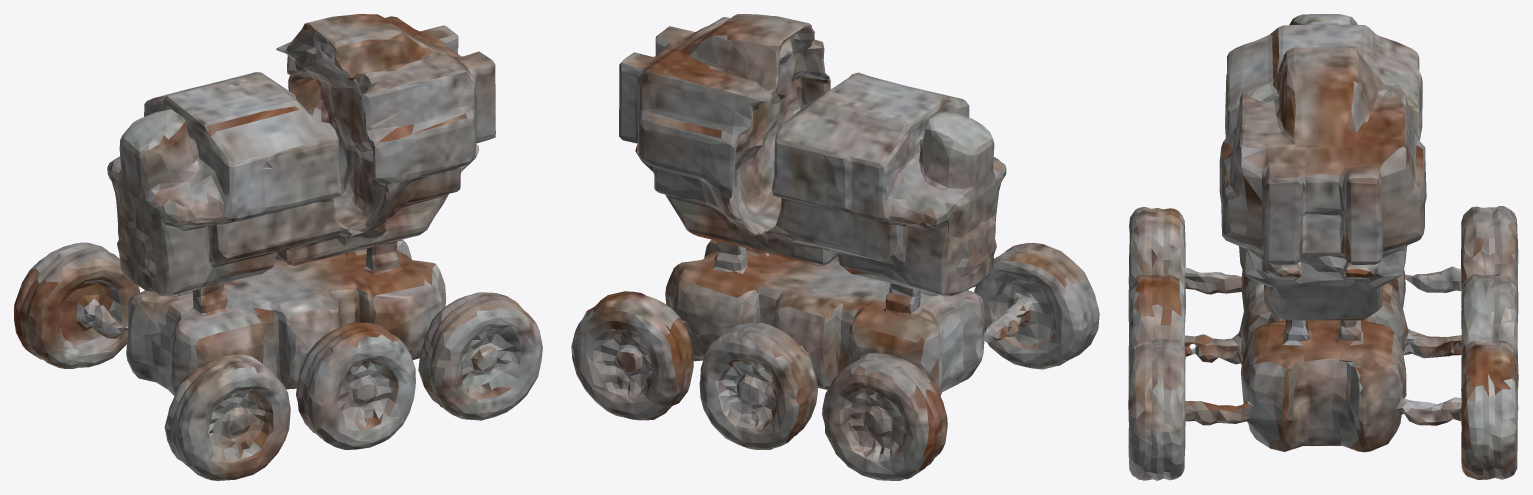
File: debris_wheeled_v2.glb
3 views of the same model, side by side, from view 1: azimuth 30°, elevation 25°; view 2: azimuth 150°, elevation 25°; view 3: azimuth 270°, elevation 25° (orthographic). The views are drawn at different scales.
Visible parts, largest first — view 1: Mesh_0; view 2: Mesh_0; view 3: Mesh_0.
Part boxes in pixels (bbox=[...]): Mesh_0: bbox=[14, 14, 542, 480]; Mesh_0: bbox=[571, 14, 1099, 480]; Mesh_0: bbox=[1128, 14, 1518, 480].
Size of the model in its own units: 1.94 by 1.72 by 1.59.
1 material, 1 textured.
